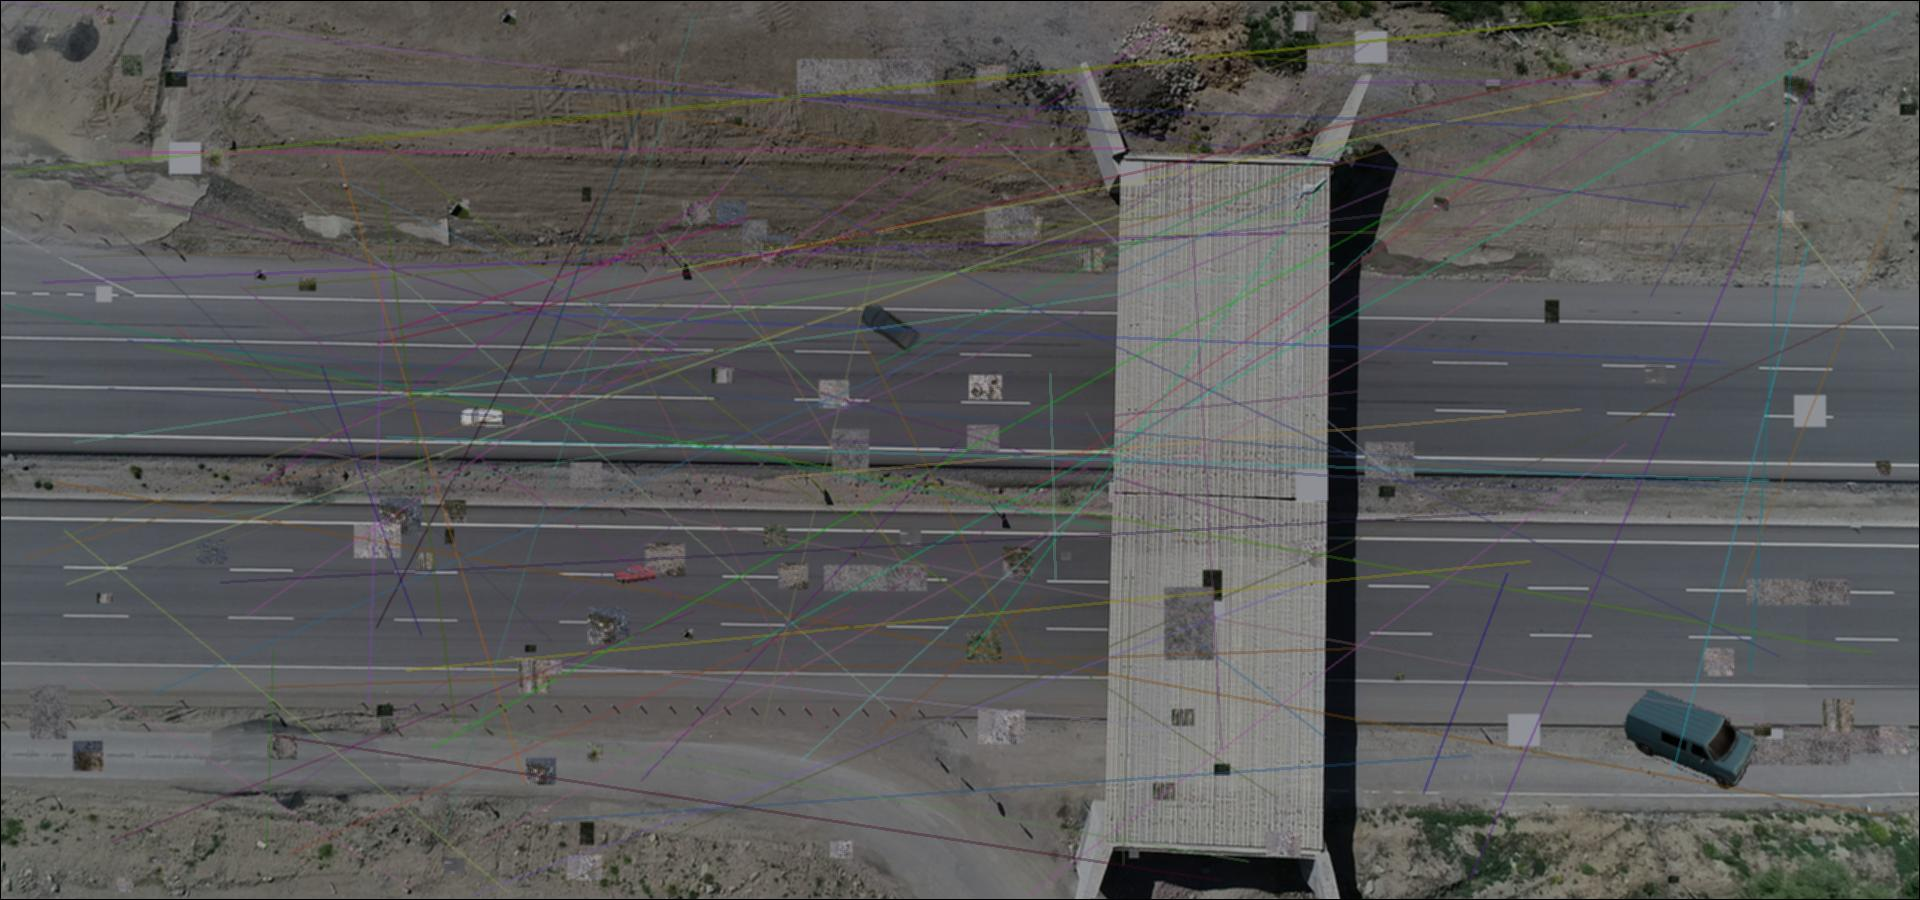arac: (1622, 687, 1757, 790), (860, 302, 921, 351), (460, 407, 506, 432), (612, 564, 658, 585)
